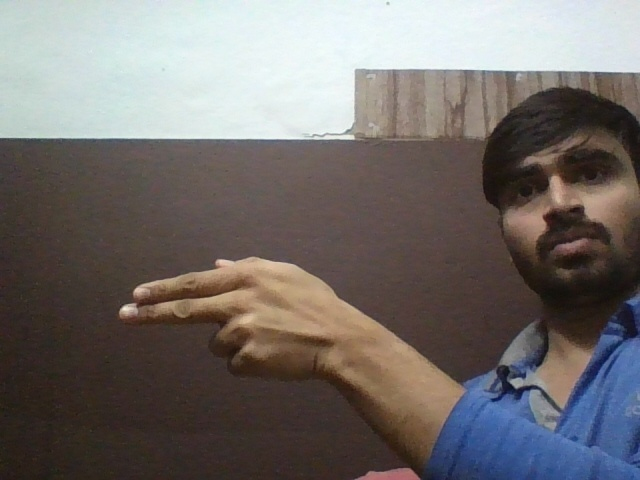H: (116, 261, 342, 381)
